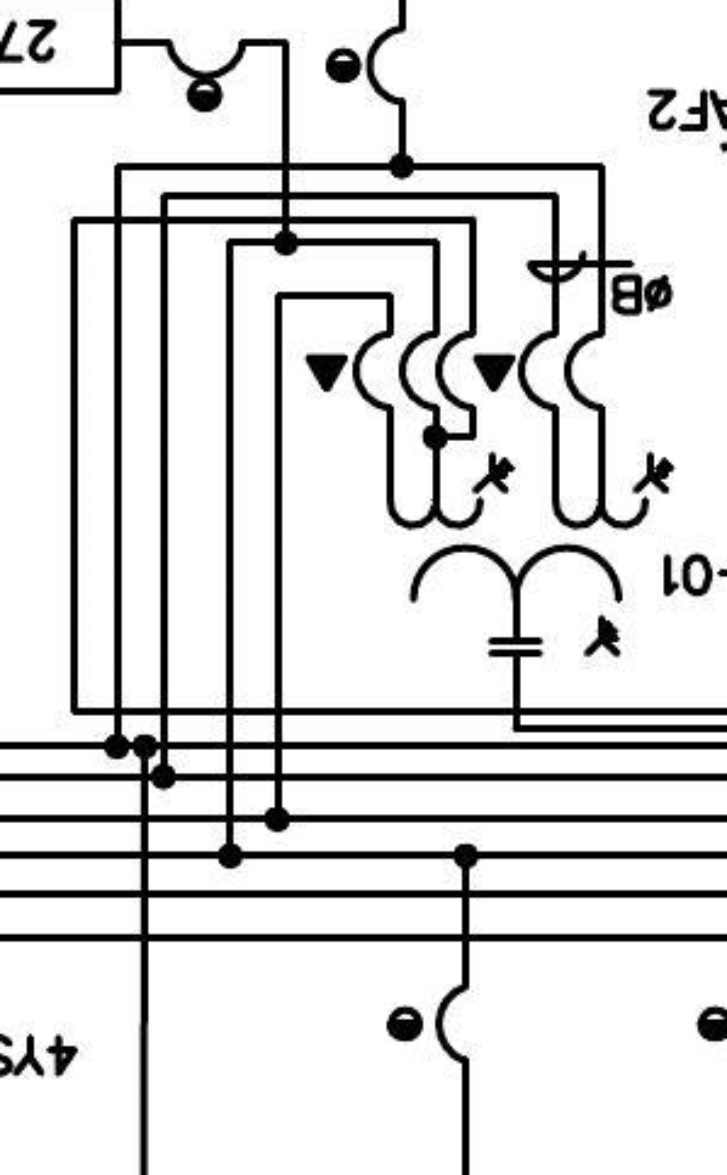115_cvt_3p: (385, 450, 677, 658)
